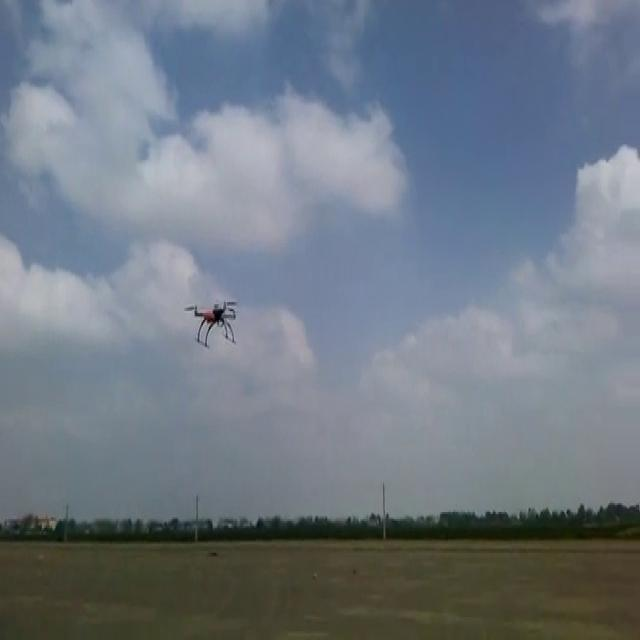drone: (187, 297, 236, 347)
